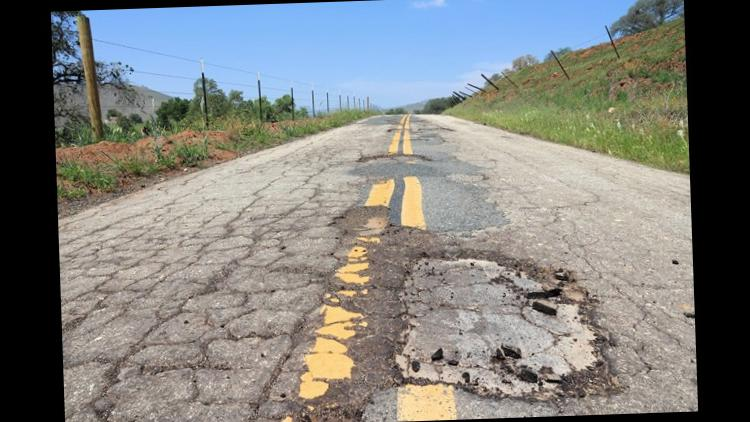pothole: (384, 232, 635, 408), (312, 188, 392, 242), (354, 144, 433, 178), (384, 119, 456, 140)
